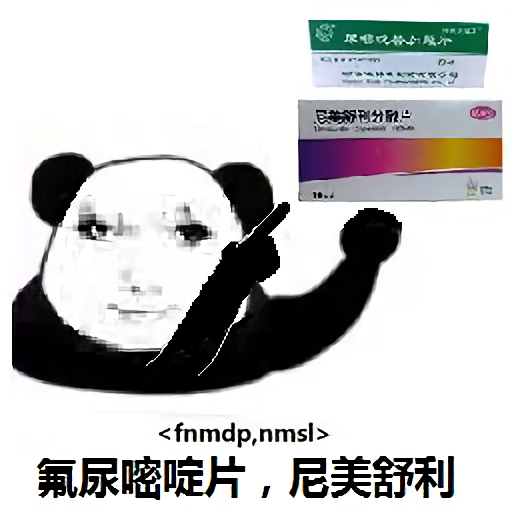dragon: (74, 203, 215, 327)
